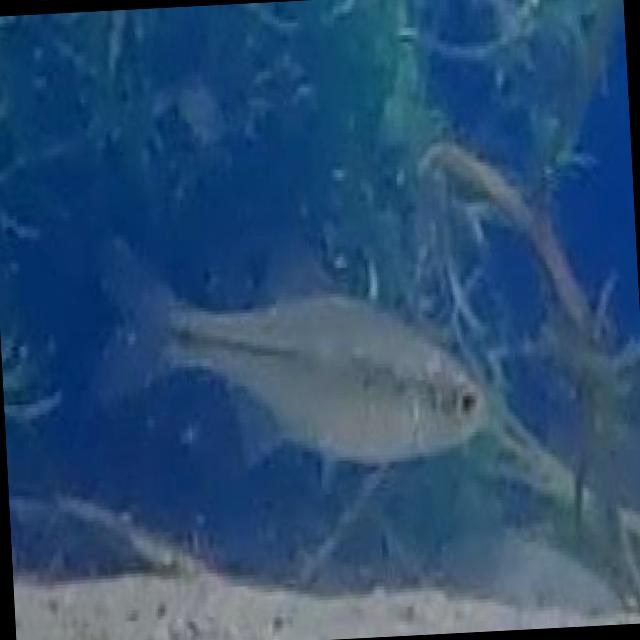Cakil Baligi: (64, 208, 492, 487)
